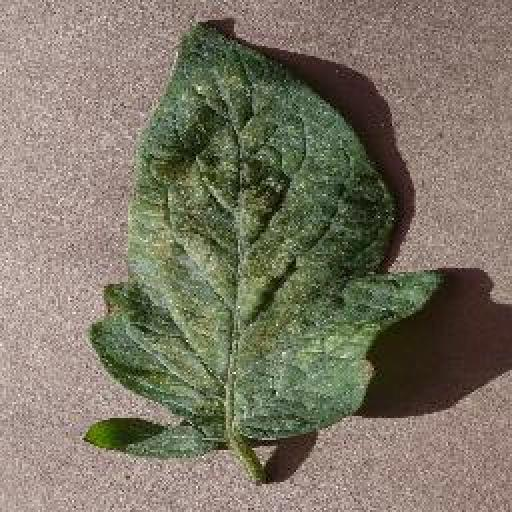disease_tomato: (80, 25, 442, 459)
